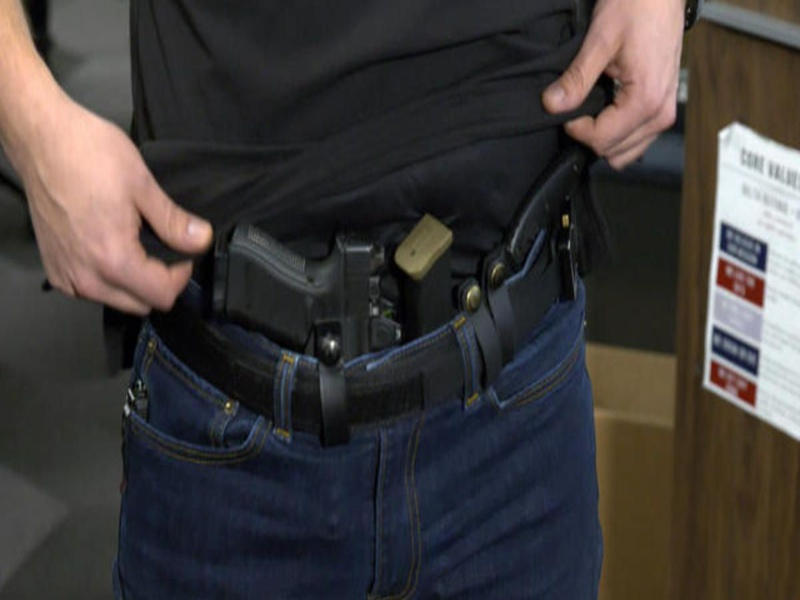gun: (206, 221, 385, 383)
